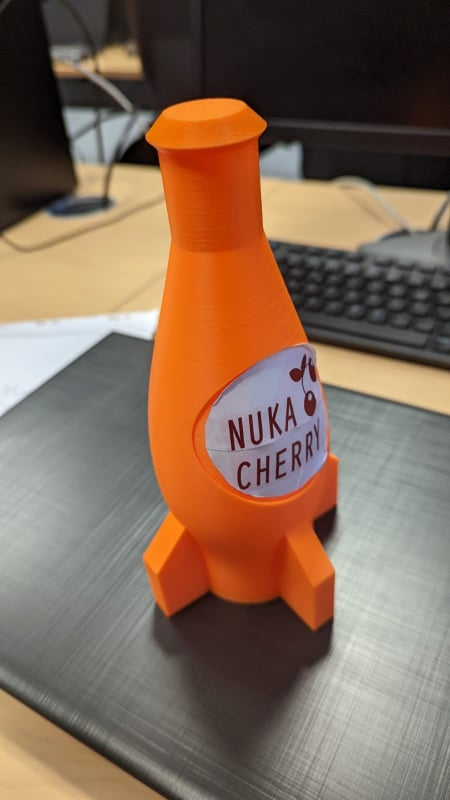bottle: (111, 78, 351, 652)
